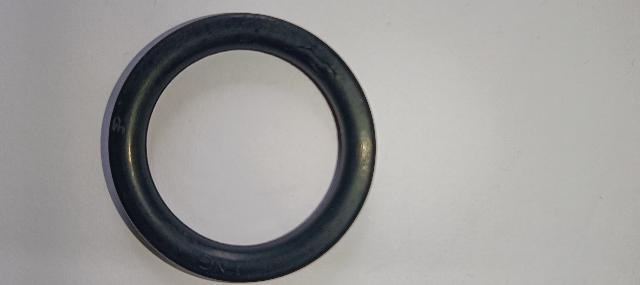scratch: (284, 44, 339, 76)
